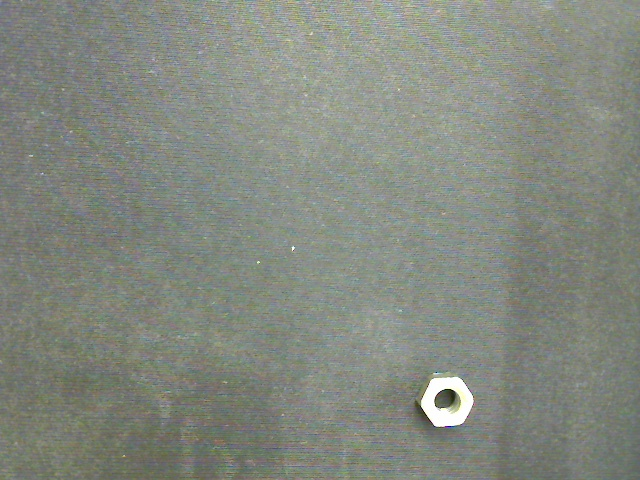Nut: (417, 372, 473, 426)
